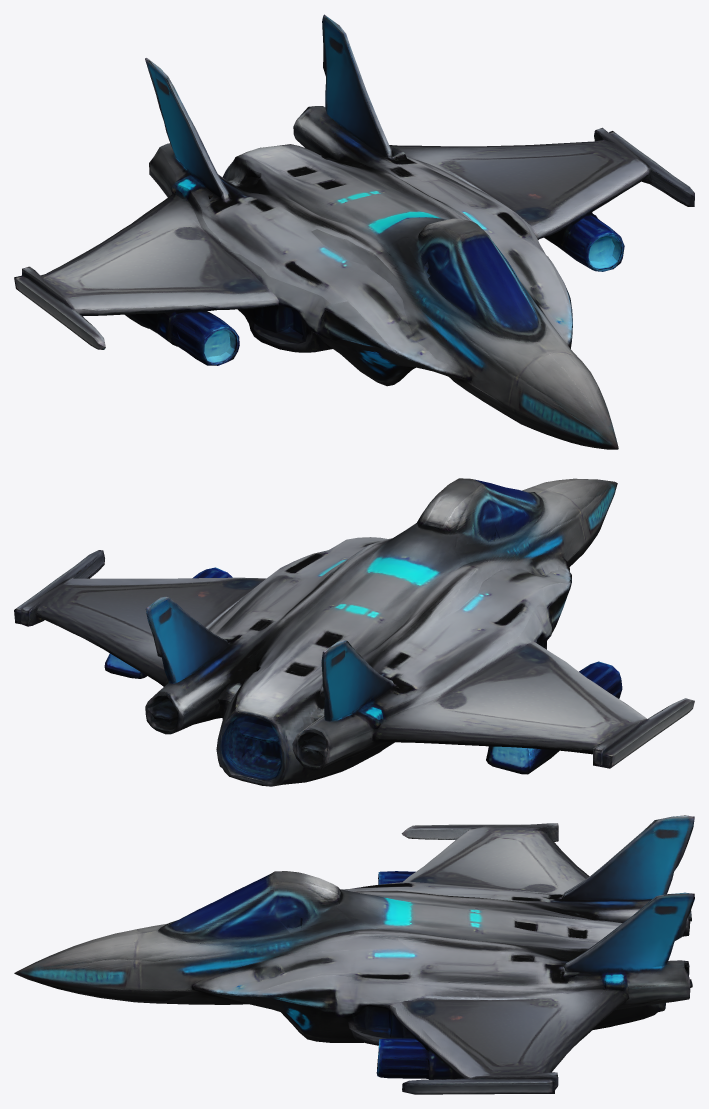
File: veh3.glb
3 renders of one model, top to bottom at view 1: azimuth 30°, elevation 25°; view 2: azimuth 150°, elevation 25°; view 3: azimuth 270°, elevation 25°, orthographic. The views are drawn at different scales.
Visible parts, largest first — view 1: Aeroplane 2_0; view 2: Aeroplane 2_0; view 3: Aeroplane 2_0.
Part boxes in pixels (bbox=[...]): Aeroplane 2_0: bbox=[14, 14, 694, 449]; Aeroplane 2_0: bbox=[14, 478, 694, 786]; Aeroplane 2_0: bbox=[14, 815, 694, 1094].
Bounding box in the file's own units: 17.48 × 5.03 × 19.35.
Materials: 1 (1 with a texture image).
